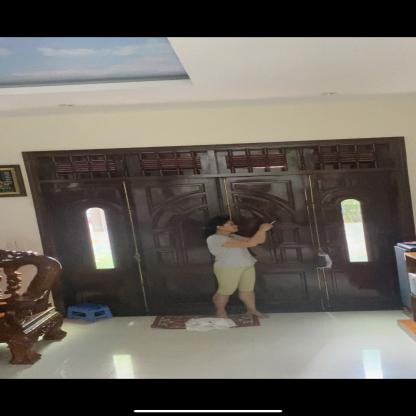cigarette: (269, 221, 276, 225)
person: (207, 206, 276, 322)
